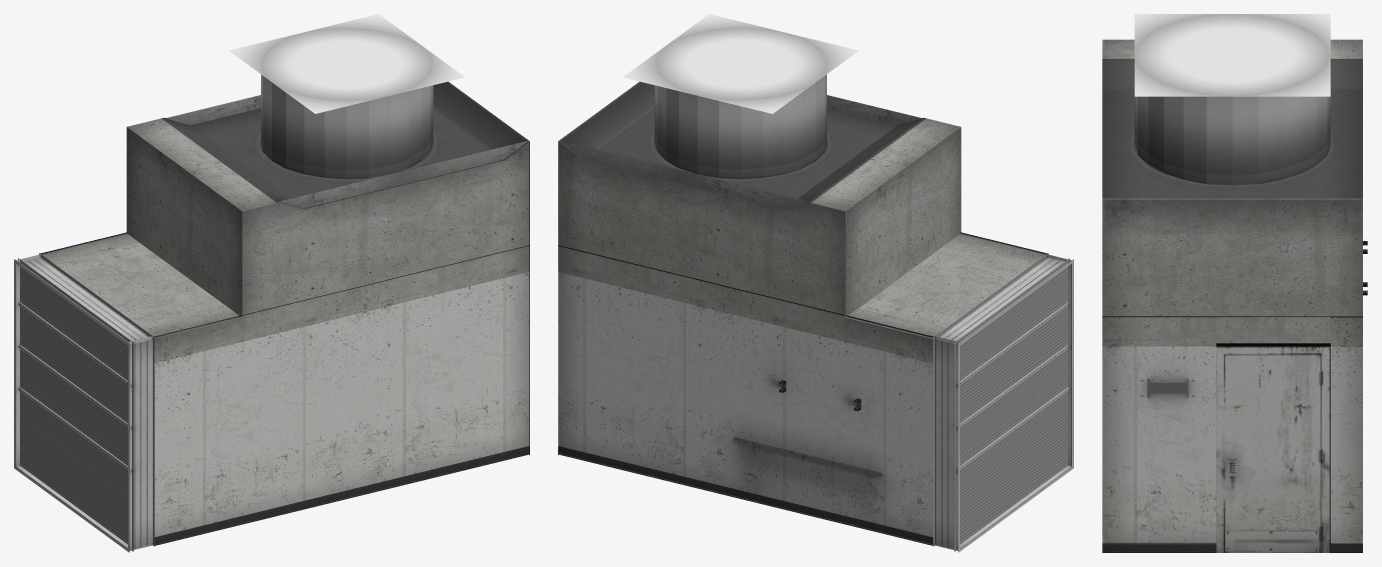
Rendered from obroom_128.obj.
3 renders of one model, left to right at view 1: azimuth 30°, elevation 25°; view 2: azimuth 150°, elevation 25°; view 3: azimuth 270°, elevation 25°, orthographic. The views are drawn at different scales.
Parts seen in each view (by area): view 1: obroom_128_2.mdl/obroom_128_2.smd, refract01_dx8.001; view 2: obroom_128_2.mdl/obroom_128_2.smd, refract01_dx8.001; view 3: obroom_128_2.mdl/obroom_128_2.smd.
Part boxes in pixels (x1,y1,x2,y2): obroom_128_2.mdl/obroom_128_2.smd: (14, 14, 529, 552); refract01_dx8.001: (18, 258, 133, 551); obroom_128_2.mdl/obroom_128_2.smd: (558, 14, 1073, 552); refract01_dx8.001: (954, 258, 1069, 551); obroom_128_2.mdl/obroom_128_2.smd: (1102, 14, 1367, 552).
Size of the model in its own units: 4 by 3.63 by 2.04.
